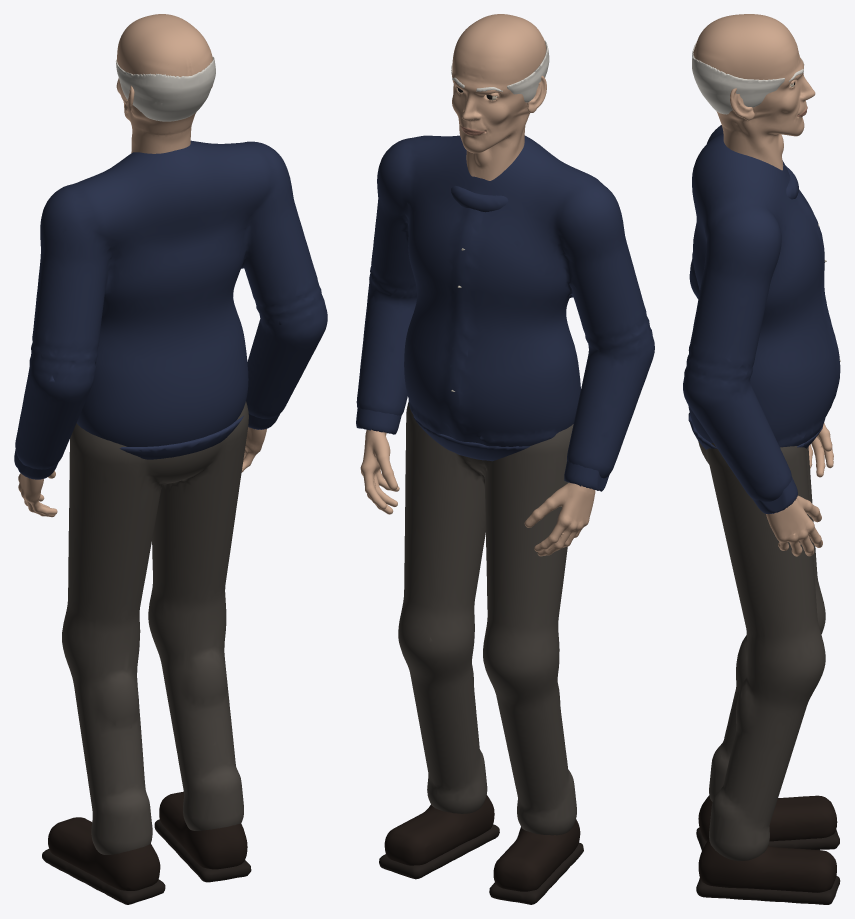
The model's file is legion.glb.
The picture shows the model from 3 angles, left to right: view 1: azimuth 30°, elevation 25°; view 2: azimuth 150°, elevation 25°; view 3: azimuth 270°, elevation 25°; orthographic projection.
Parts seen in each view (by area): view 1: legion_body, legion_head, legion_hands; view 2: legion_body, legion_head, legion_hands; view 3: legion_body, legion_head, legion_hands.
Part boxes in pixels (<box>): legion_body: <box>15,140,327,904</box>; legion_head: <box>116,14,215,153</box>; legion_hands: <box>14,413,279,517</box>; legion_body: <box>356,135,654,904</box>; legion_head: <box>451,14,549,180</box>; legion_hands: <box>356,408,609,556</box>; legion_body: <box>683,125,840,904</box>; legion_head: <box>692,14,815,170</box>; legion_hands: <box>752,423,833,556</box>.
Size of the model in its own units: 0.5947 by 1.69 by 0.2854.
